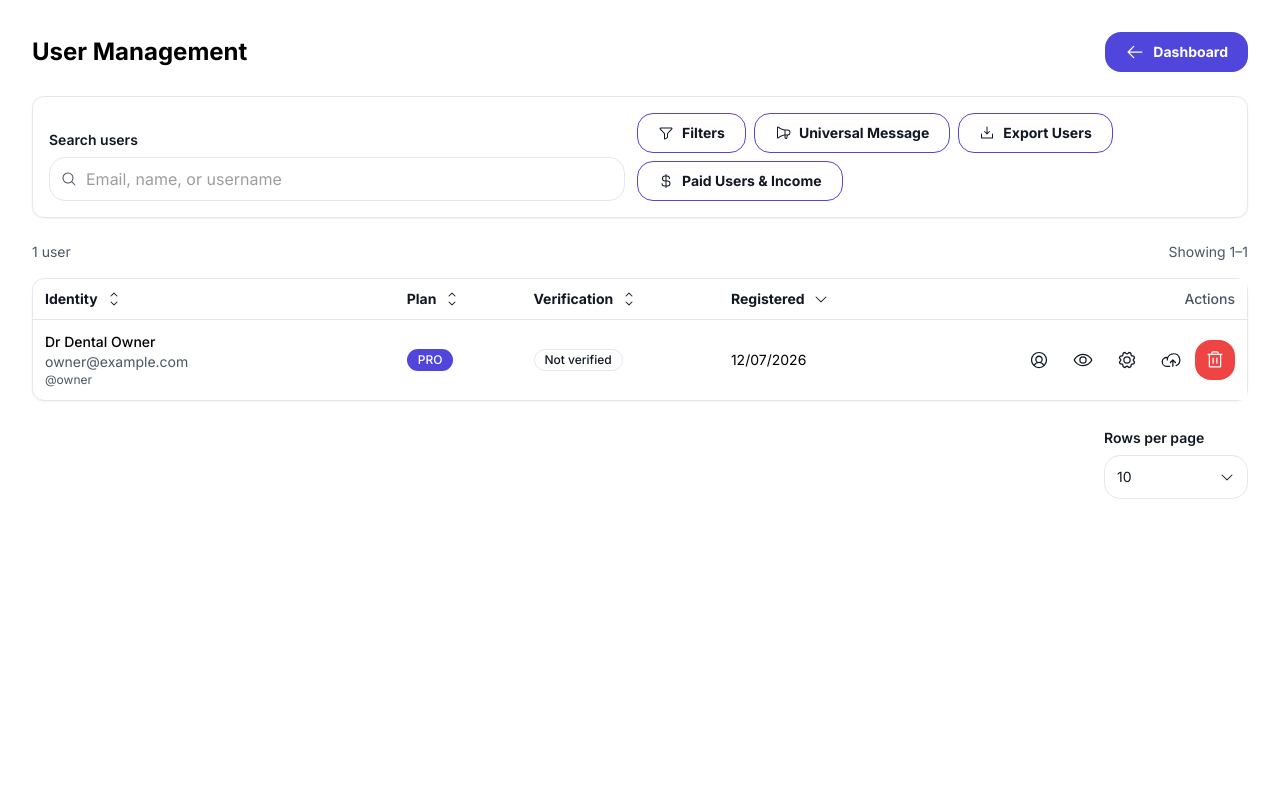
UsersManagement › keeps authoritative deletion success when the subsequent refresh fails
Expected: the text "owner@example.com" is shown, [45,352,188,370]
Click the button named "Delete owner@example.com" at (1215, 360), box [1195,340,1235,380]
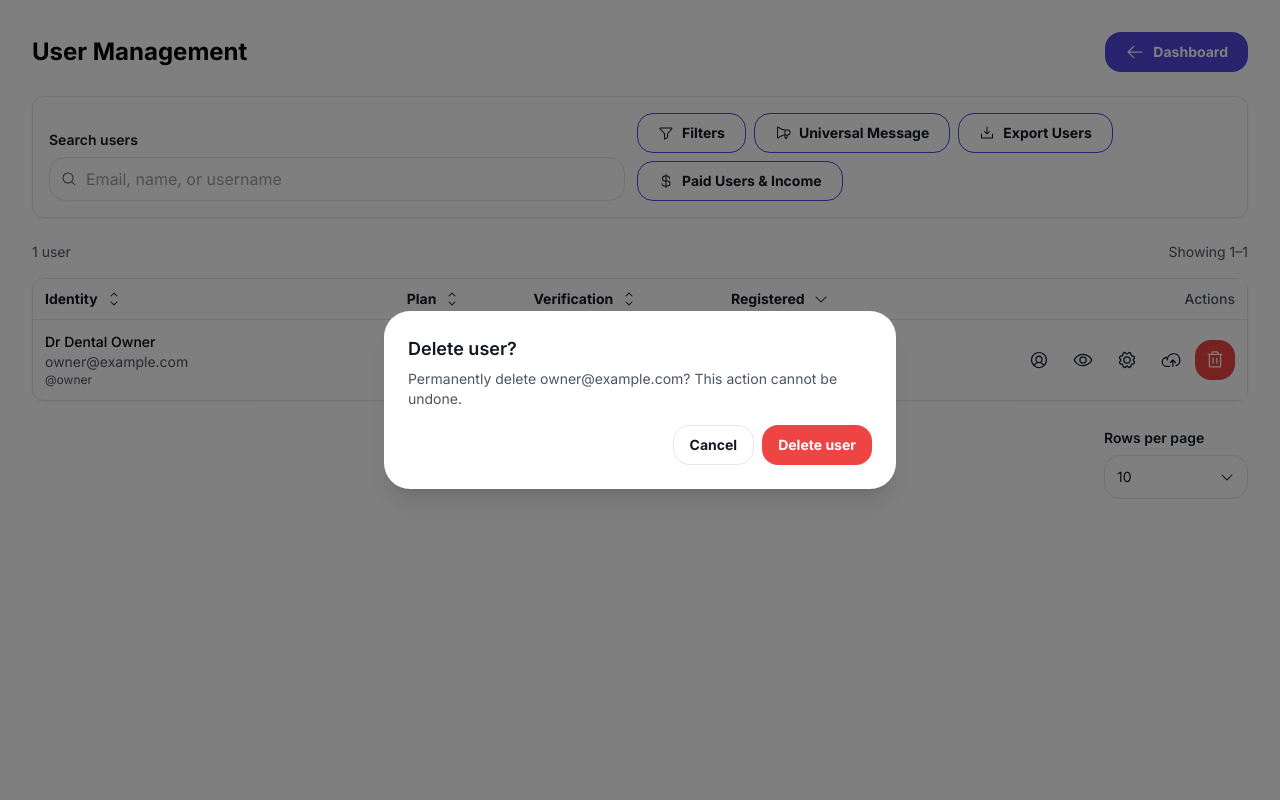
Click the button "Delete user" at (817, 445), box [762,425,872,465]
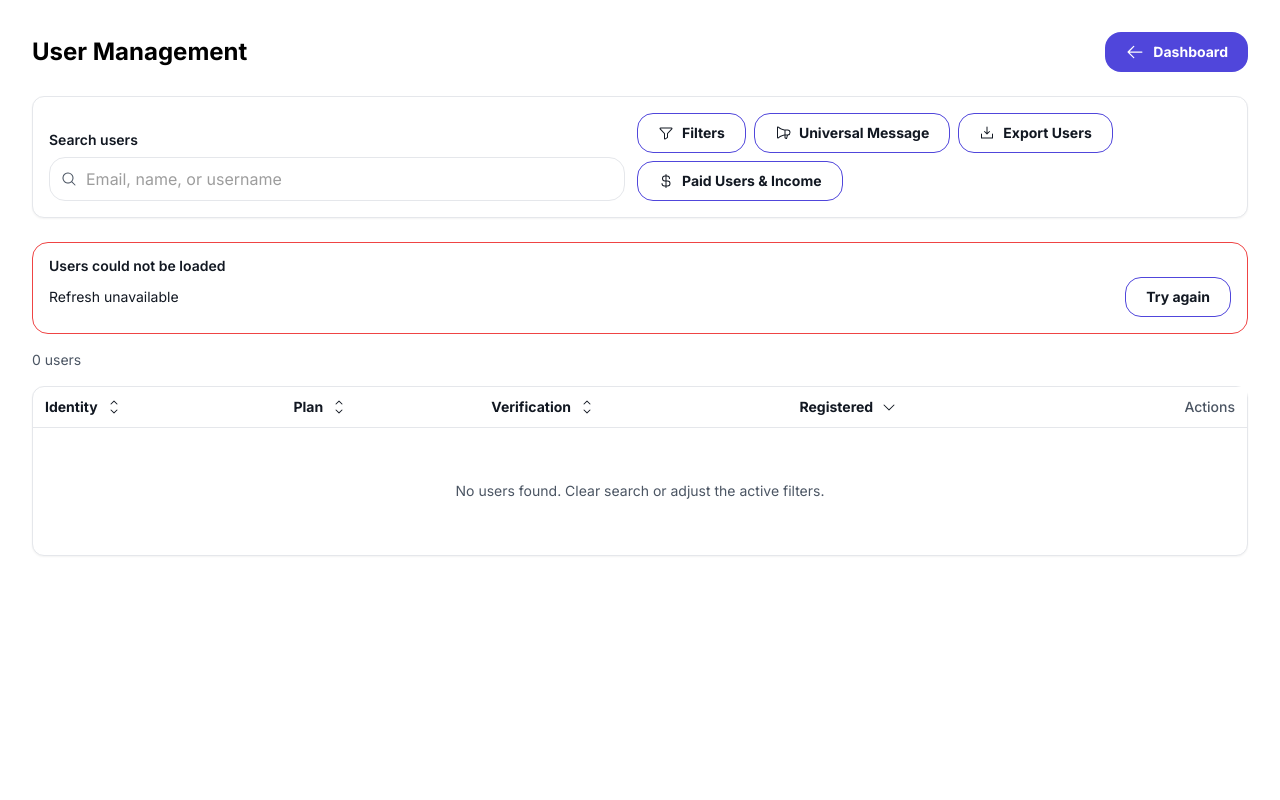
Result: the text "Refresh unavailable" is shown at [49,286,179,308]
Result: the text "owner@example.com" is gone
Result: the heading "Delete user?" is gone
